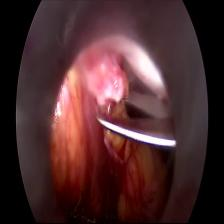Scissors: (95, 76, 177, 155)
